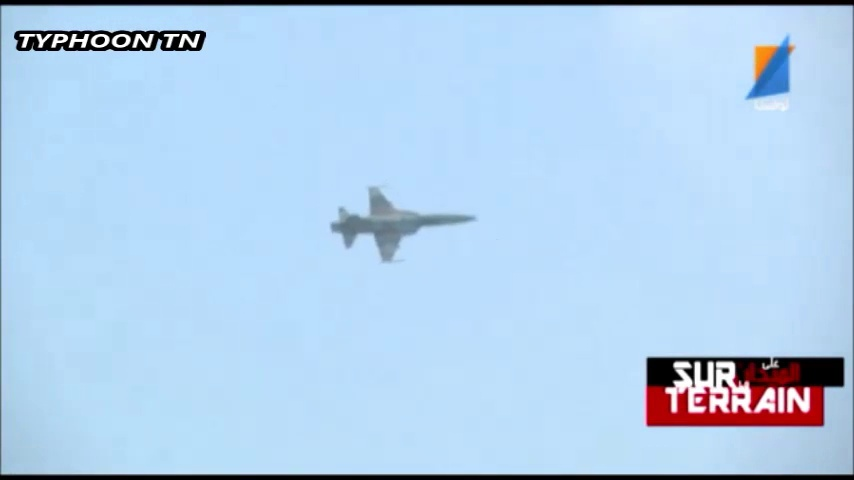Airplane: (333, 185, 475, 265)
